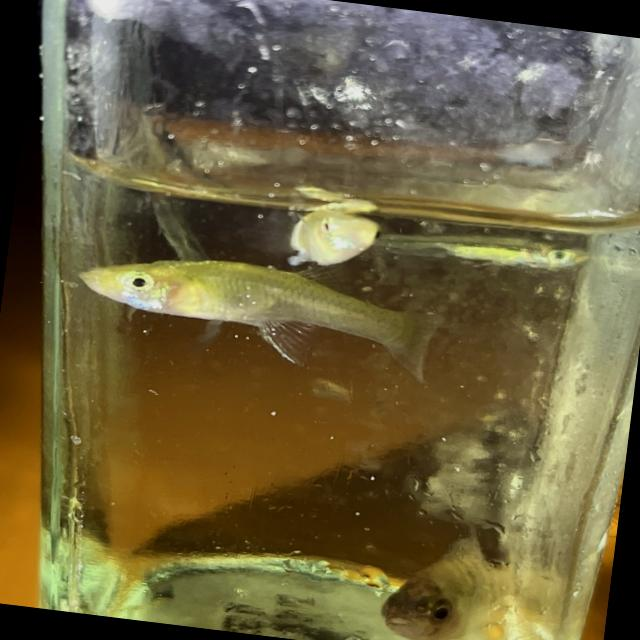Sivrisinek Baligi: (68, 238, 452, 386), (352, 515, 555, 640), (401, 210, 594, 282), (260, 188, 392, 278)
